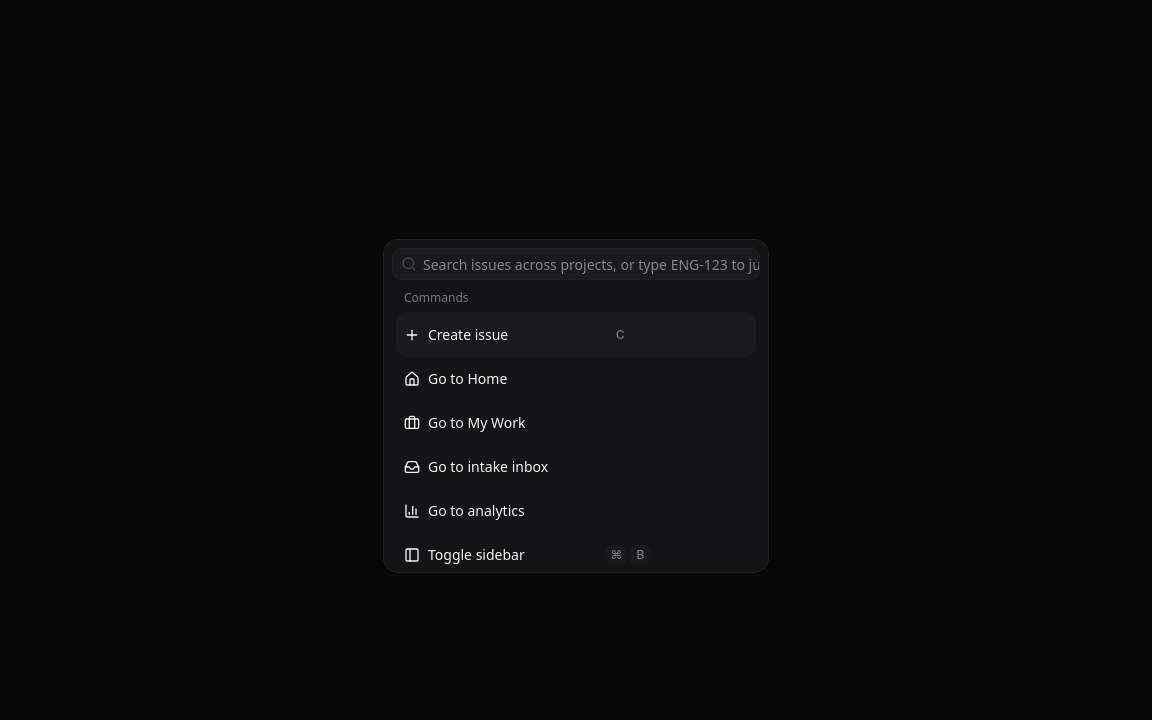
command palette Pages section › renders a Pages group with page hits under the issue groups
The image size is (1152, 720).
Type "guide" into the dropdown with placeholder "Search issues across projects, or type ENG-123 to jump…" at (588, 264), box [417,240,759,288]
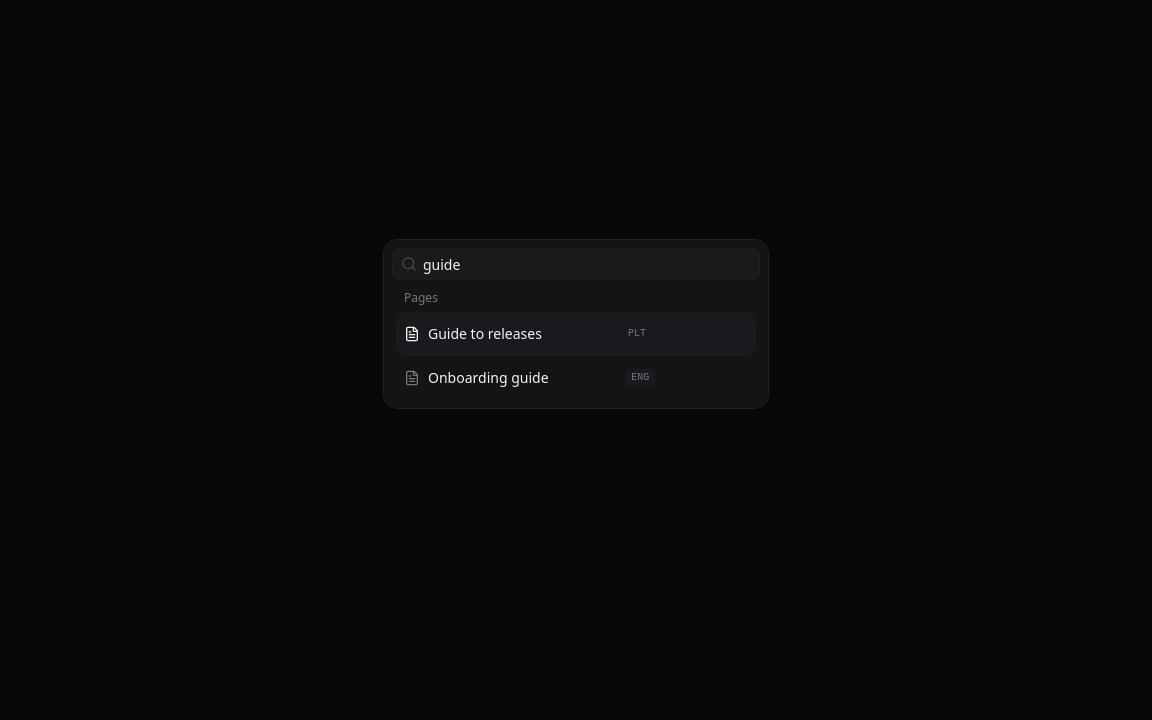
Check: the text "Pages" is shown, box [404,289,438,306]
Check: the text "Onboarding guide" is shown, box [428,368,548,388]
Check: the text "Guide to releases" is shown, box [428,324,542,344]
